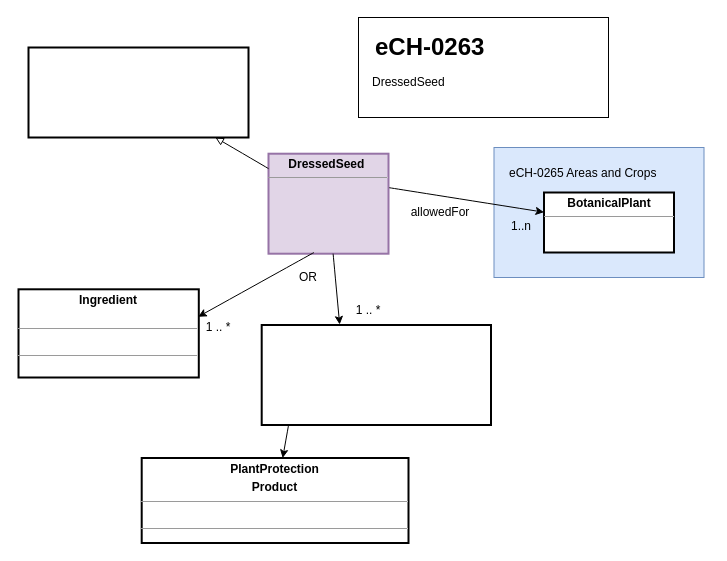
Some shapes in this 727 by 561 pixel diagram are drawn without their labels. Here are the shapes that lost their labels. From the top down, the centre of each, then its label:
At point (138, 92): "AbstractProduct".
At point (376, 375): "SeedTreatment id: Identifikator descriptor: Descriptor quantity: Measurement".
